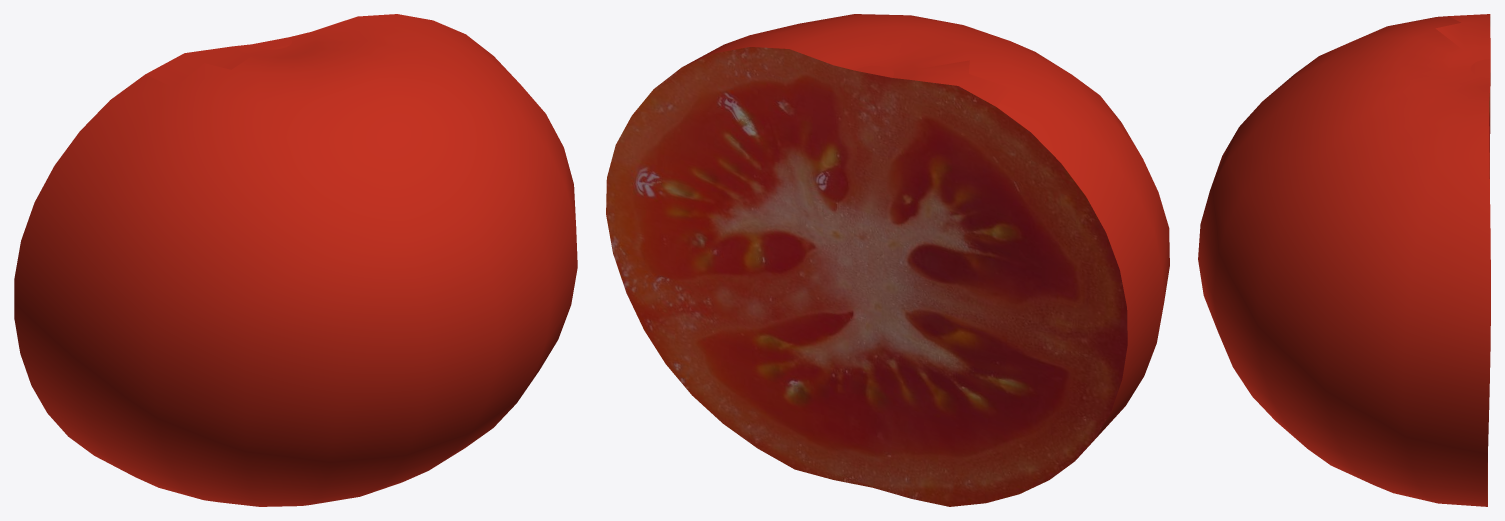
File: TomatoHalf 1.fbx
3 renders of one model, left to right at view 1: azimuth 30°, elevation 25°; view 2: azimuth 150°, elevation 25°; view 3: azimuth 270°, elevation 25°, orthographic. The views are drawn at different scales.
Visible parts, largest first — view 1: Tomatohalf; view 2: Tomatohalf; view 3: Tomatohalf.
Part boxes in pixels (x1,y1,x2,y2): Tomatohalf: (14, 14, 577, 506); Tomatohalf: (606, 14, 1169, 506); Tomatohalf: (1198, 14, 1490, 506).
Size of the model in its own units: 11.34 by 8.86 by 5.81.
